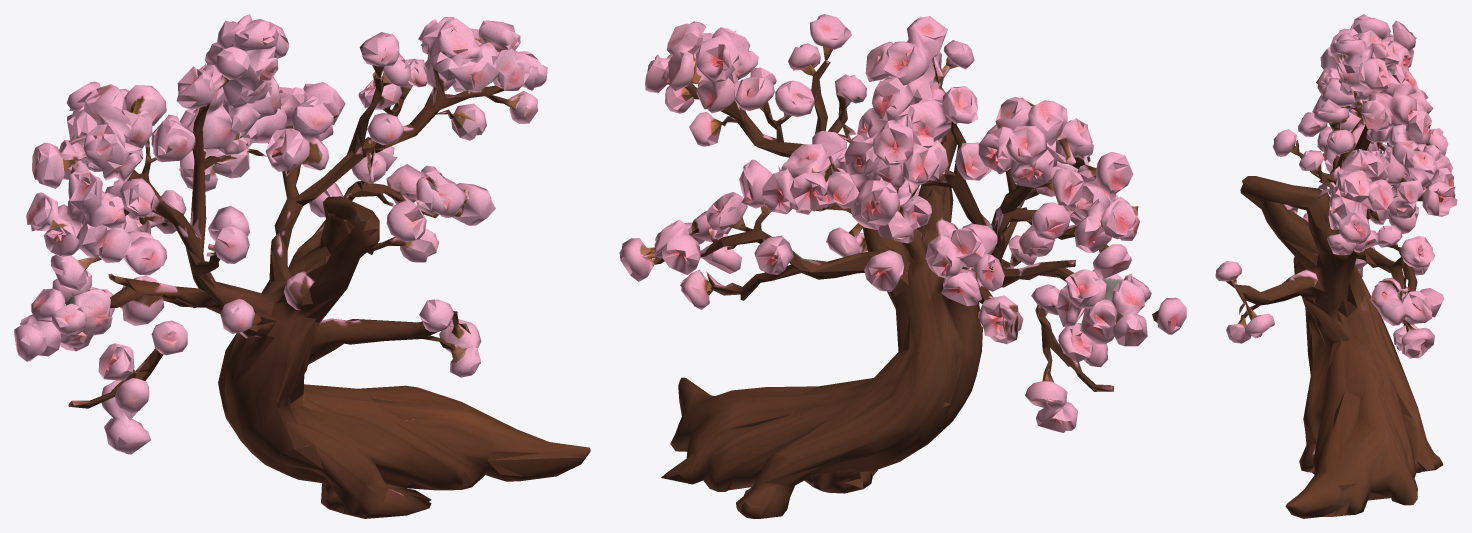
File: sakura.fbx
The picture shows the model from 3 angles, left to right: view 1: azimuth 30°, elevation 25°; view 2: azimuth 150°, elevation 25°; view 3: azimuth 270°, elevation 25°; orthographic projection. The views are drawn at different scales.
Parts seen in each view (by area): view 1: Mesh_0; view 2: Mesh_0; view 3: Mesh_0.
Part boxes in pixels (left/top/right/bottom): Mesh_0: left=14, top=14, right=590, bottom=518; Mesh_0: left=619, top=14, right=1186, bottom=518; Mesh_0: left=1215, top=14, right=1457, bottom=518.
Bounding box in the file's own units: 190 × 166 × 94.55.
1 material, 1 textured.
